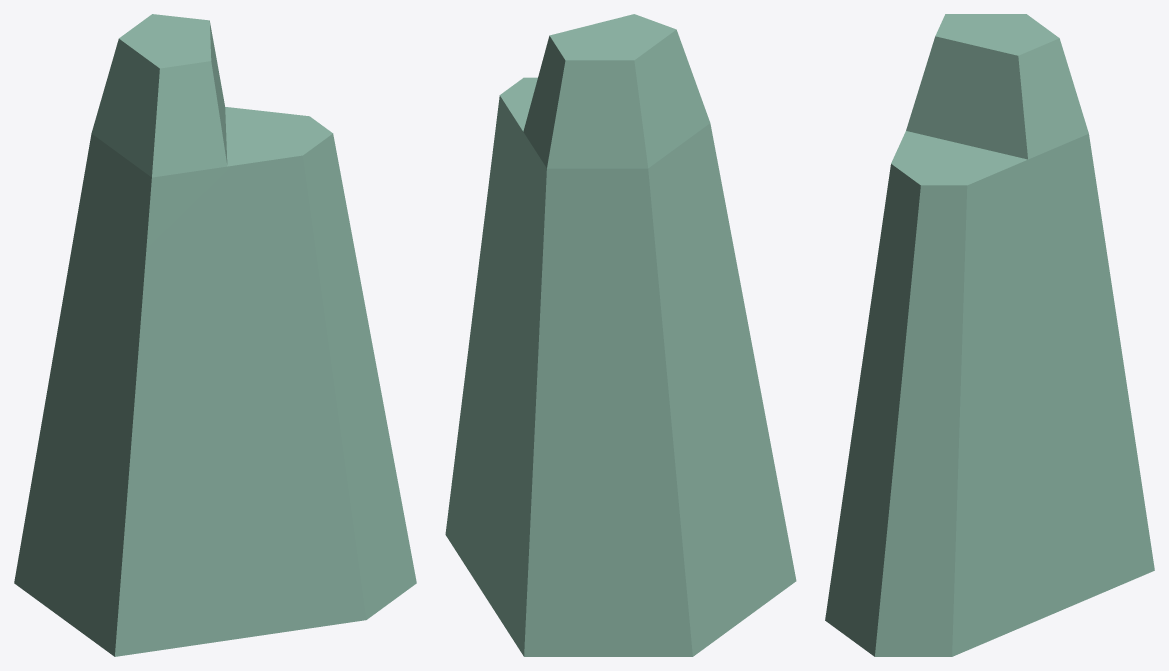
Rendered from naturePack_036.fbx.
3 renders of one model, left to right at view 1: azimuth 30°, elevation 25°; view 2: azimuth 150°, elevation 25°; view 3: azimuth 270°, elevation 25°, orthographic. The views are drawn at different scales.
Visible parts, largest first — view 1: naturePack_036; view 2: naturePack_036; view 3: naturePack_036.
Part boxes in pixels (x1=…): naturePack_036: x1=14, y1=14, x2=416, y2=656; naturePack_036: x1=445, y1=14, x2=796, y2=656; naturePack_036: x1=825, y1=14, x2=1154, y2=656.
Bounding box in the file's own units: 126 × 217 × 121.
